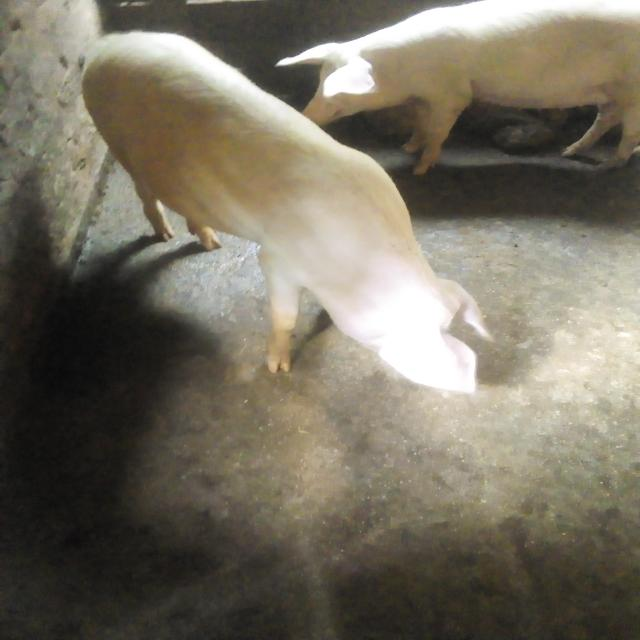pig: (267, 0, 640, 196)
